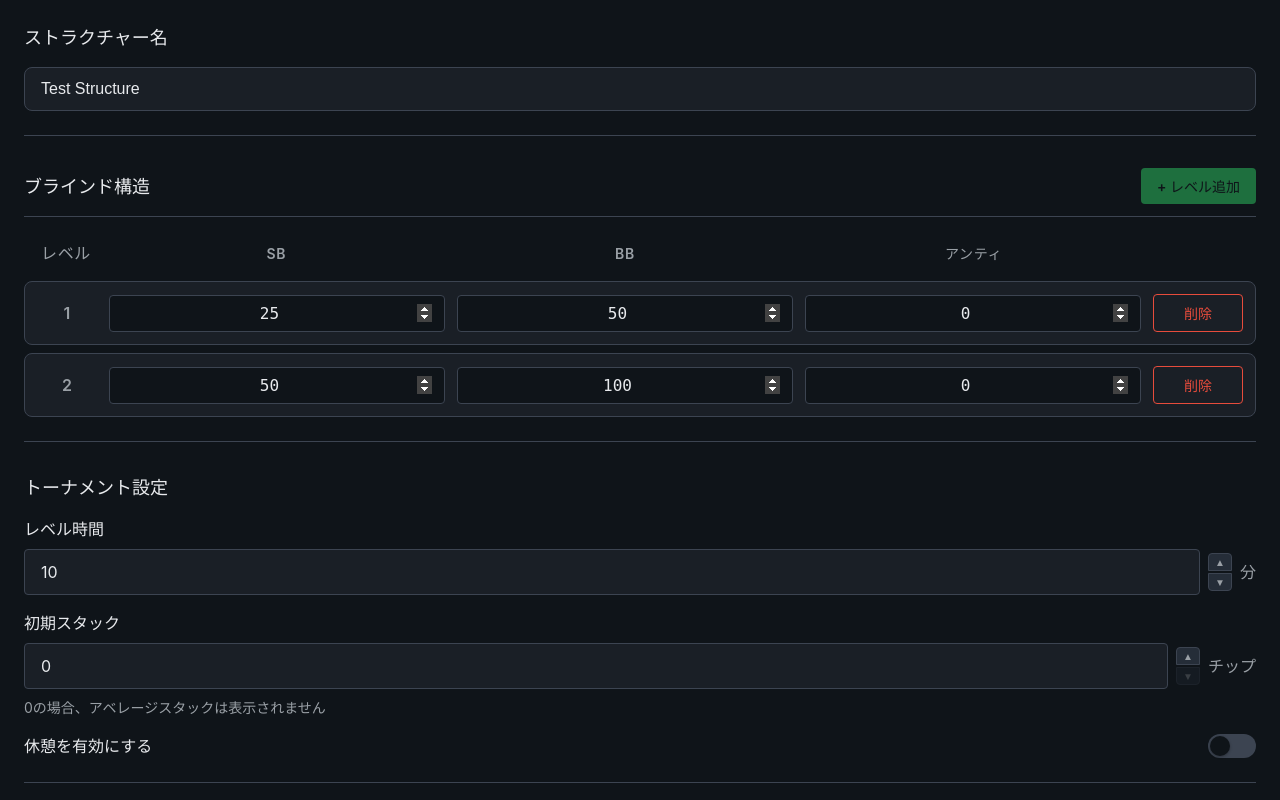
it: StructureEditor › ストラクチャー名が空の場合、エラーメッセージが表示される
Clear the field with test id "structure-name-input": (640, 89) x1=24 y1=67 x2=1256 y2=111
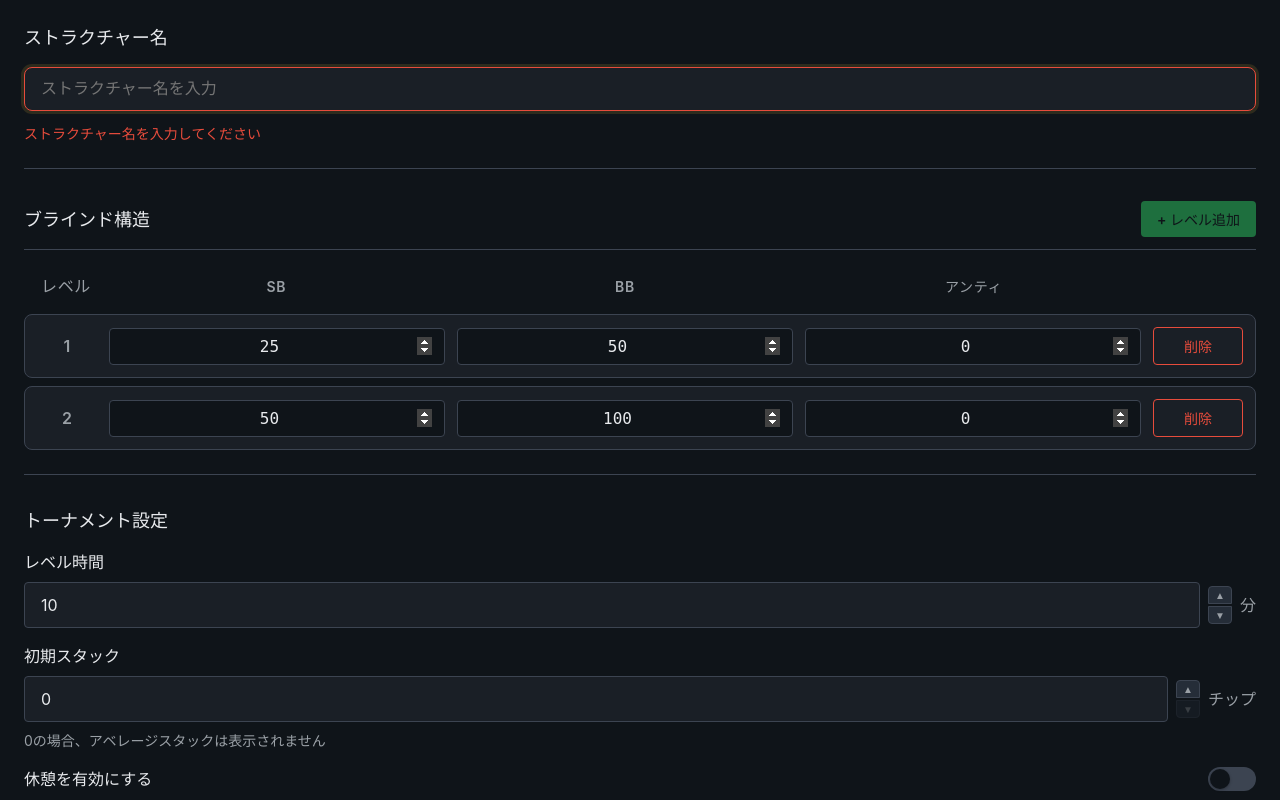
Expected: the message with test id "name-error" reads "ストラクチャー名を入力してください", x1=24 y1=125 x2=261 y2=142
